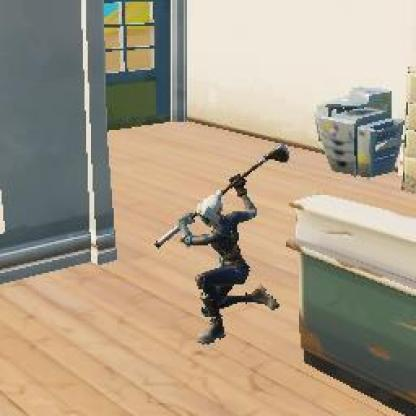dumpster: (177, 192, 281, 344)
